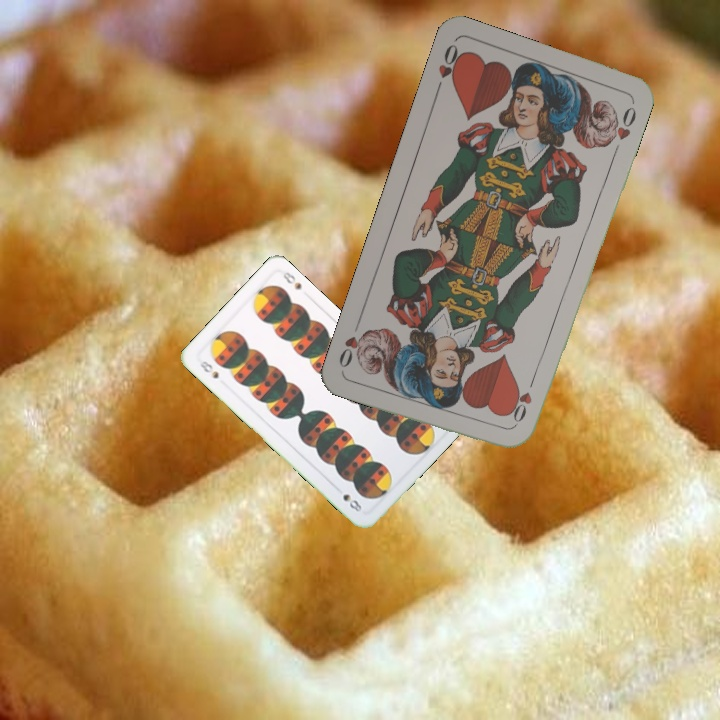HO: (431, 39, 466, 96), (509, 372, 538, 429)
S8: (195, 357, 221, 381)
